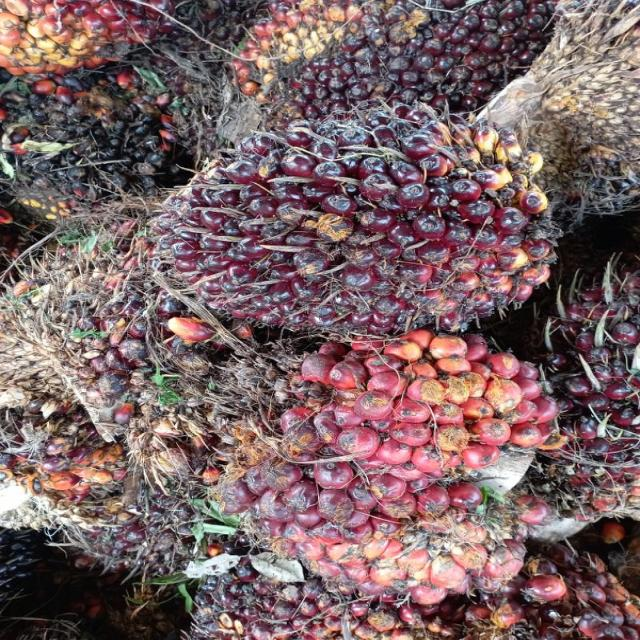fraksi 1: (117, 65, 590, 392)
fraksi 3: (135, 319, 632, 640)
